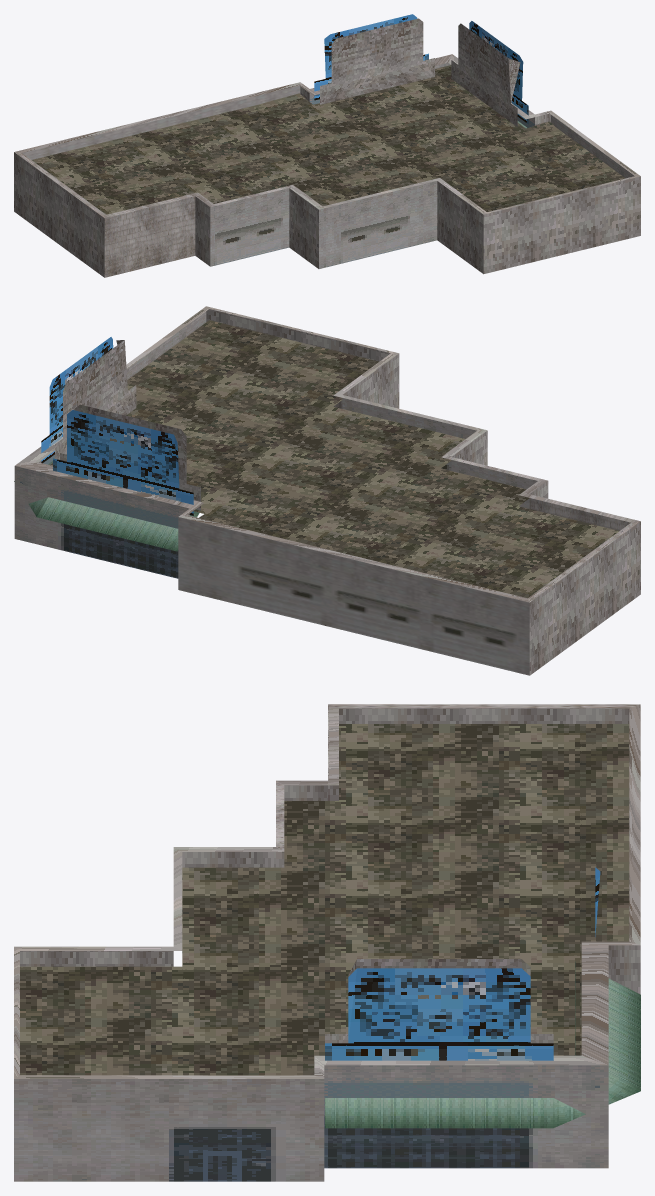
Rendered from lodusedcar2.obj.
3 views of the same model, one above another, from view 1: azimuth 30°, elevation 25°; view 2: azimuth 150°, elevation 25°; view 3: azimuth 270°, elevation 25° (orthographic). The views are drawn at different scales.
Visible parts, largest first — view 1: lodusedcar2; view 2: lodusedcar2; view 3: lodusedcar2.
Part boxes in pixels (x1=…): lodusedcar2: x1=14, y1=14, x2=640, y2=277; lodusedcar2: x1=14, y1=306, x2=640, y2=675; lodusedcar2: x1=14, y1=704, x2=640, y2=1181.
Size of the model in its own units: 79.62 by 19.29 by 56.23.
Materials: 9 (9 with a texture image).
